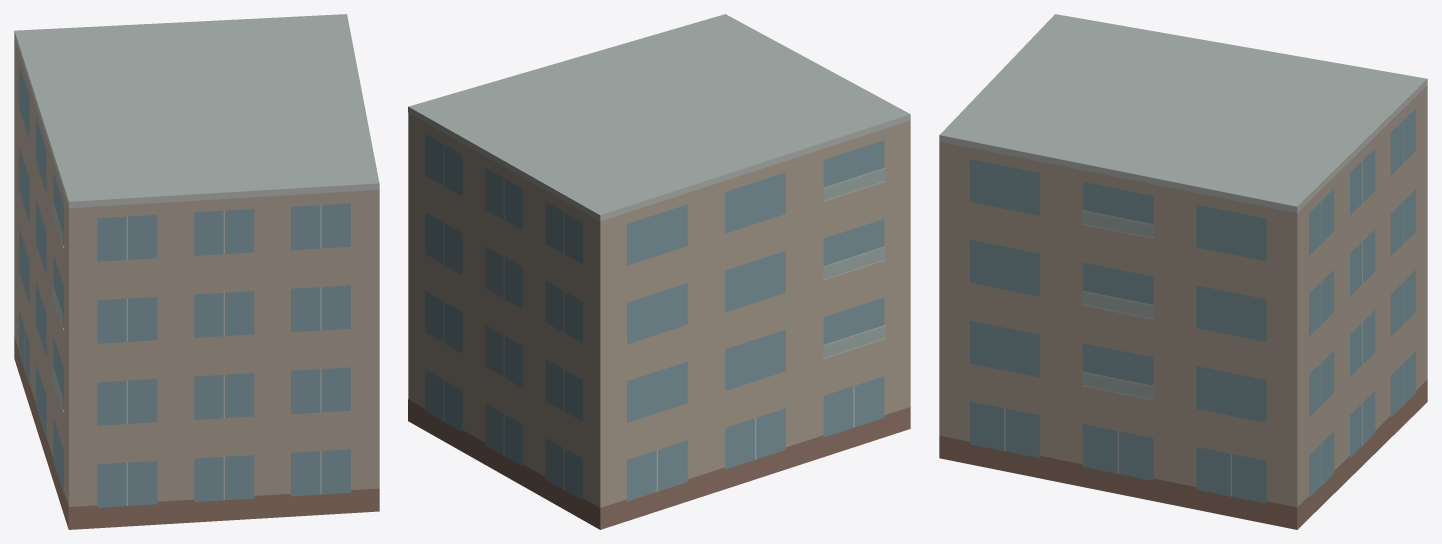
The model's file is survey-upis-32943078.glb.
3 views of the same model, side by side, from view 1: azimuth 30°, elevation 25°; view 2: azimuth 150°, elevation 25°; view 3: azimuth 270°, elevation 25° (orthographic). The views are drawn at different scales.
Parts seen in each view (by area): view 1: survey-upis-32943078.tmp; view 2: survey-upis-32943078.tmp; view 3: survey-upis-32943078.tmp.
Boxes of the visible parts, left/top/right/bottom form: survey-upis-32943078.tmp: left=14, top=14, right=379, bottom=529; survey-upis-32943078.tmp: left=408, top=14, right=910, bottom=529; survey-upis-32943078.tmp: left=939, top=14, right=1427, bottom=529.
Size of the model in its own units: 16 by 12.5 by 17.12.
